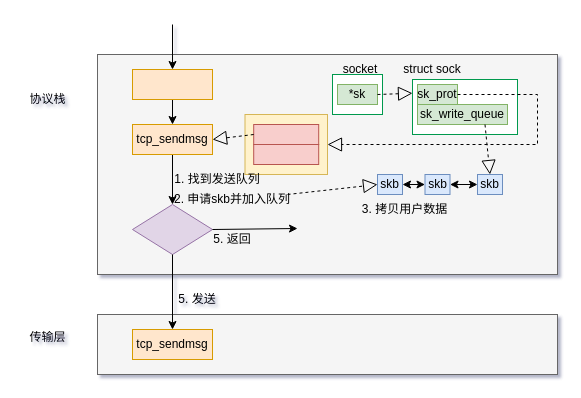
Some shapes in this 581 by 398 pixel diagram are drawn without their labels. Each missing label, with the centre of its shape:
.recvmsg: point (286, 154)
.sendmsg: point (286, 134)
4. 发送判断: point (172, 229)
inet_sendmsg: point (172, 84)
